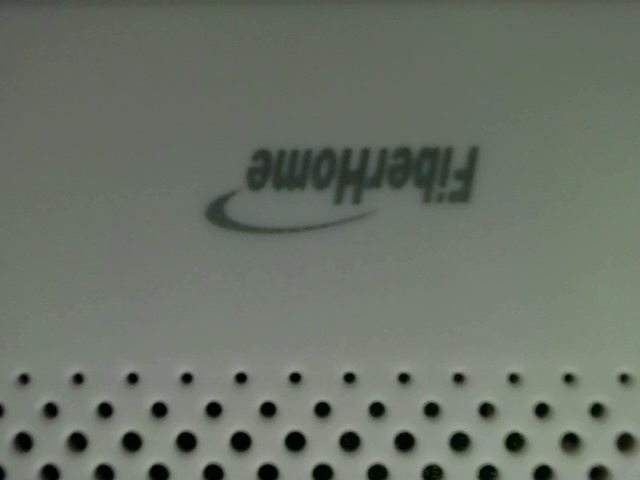AI_FiberHome: (198, 139, 487, 246)
